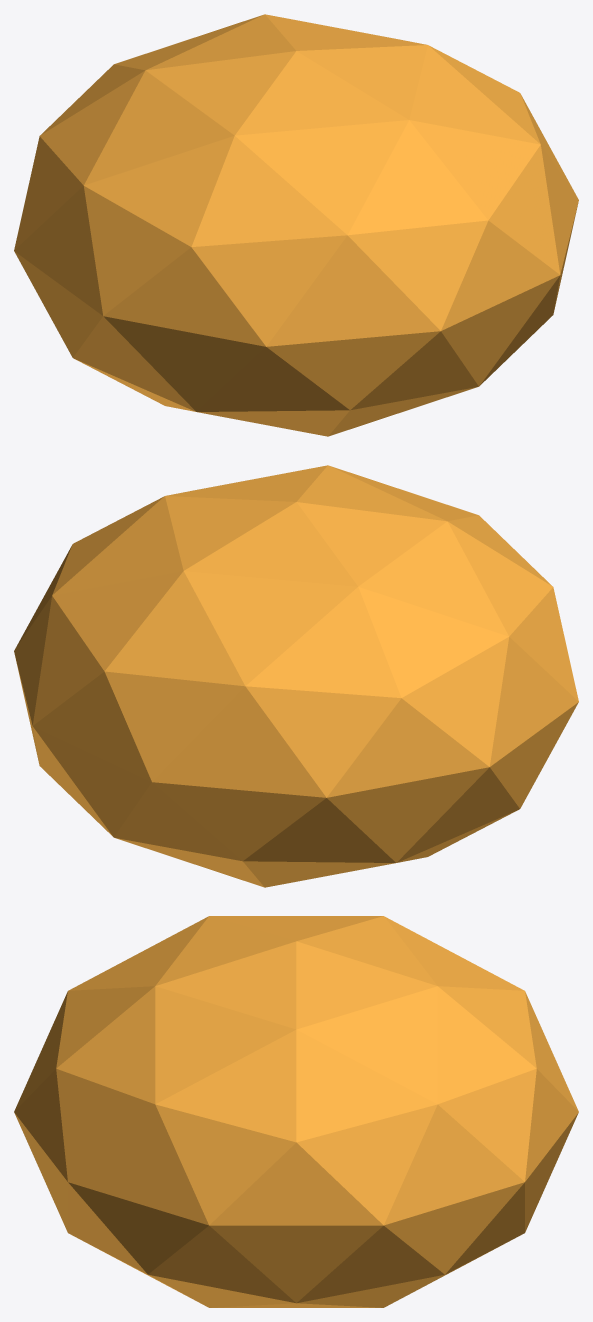
Rendered from Scuba_BrainCoral.fbx.
The picture shows the model from 3 angles, top to bottom: view 1: azimuth 30°, elevation 25°; view 2: azimuth 150°, elevation 25°; view 3: azimuth 270°, elevation 25°; orthographic projection. The views are drawn at different scales.
Visible parts, largest first — view 1: BrainCoral; view 2: BrainCoral; view 3: BrainCoral.
Boxes of the visible parts, box(x1,y1,x2,y2) form: BrainCoral: box(14, 14, 578, 436); BrainCoral: box(14, 465, 578, 887); BrainCoral: box(14, 916, 578, 1307).
Size of the model in its own units: 1.14 by 0.8 by 1.2.
